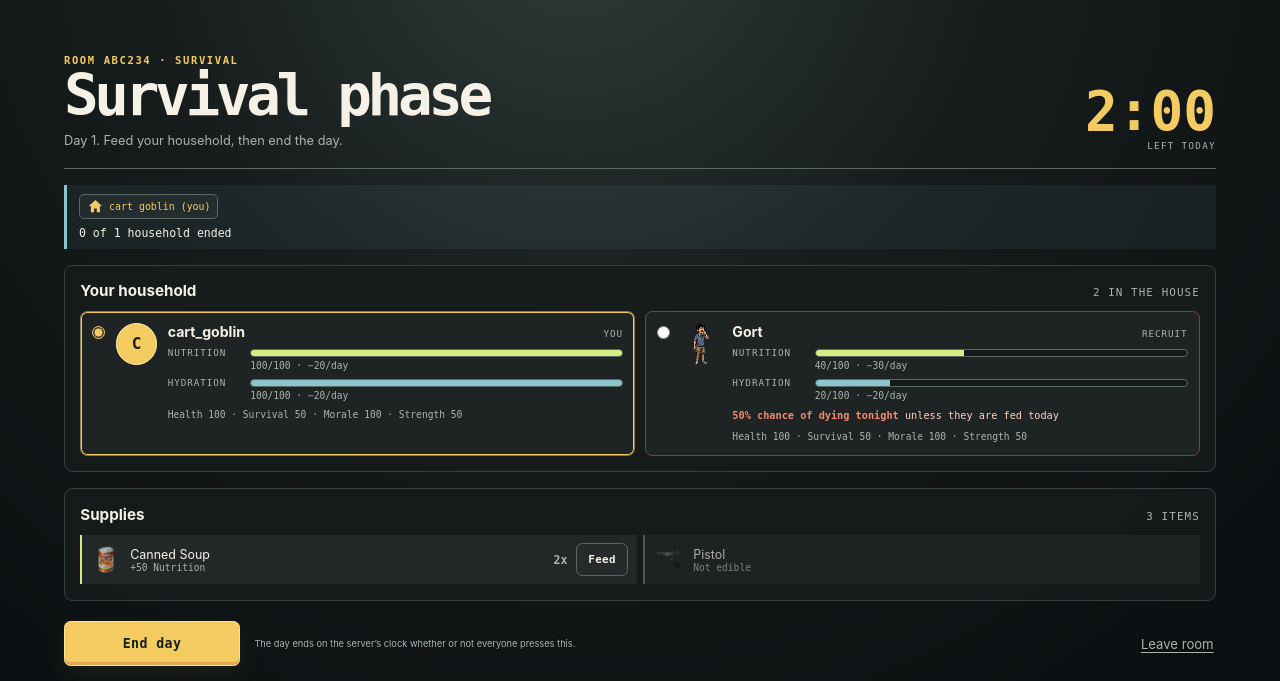
Test case: survival day screen › reports a dropped connection rather than pretending the feed landed
What coordinates should you click on to do the following:
click the button "Feed"
I would click on:
 (602, 560)
Its box is [576,543,628,576].
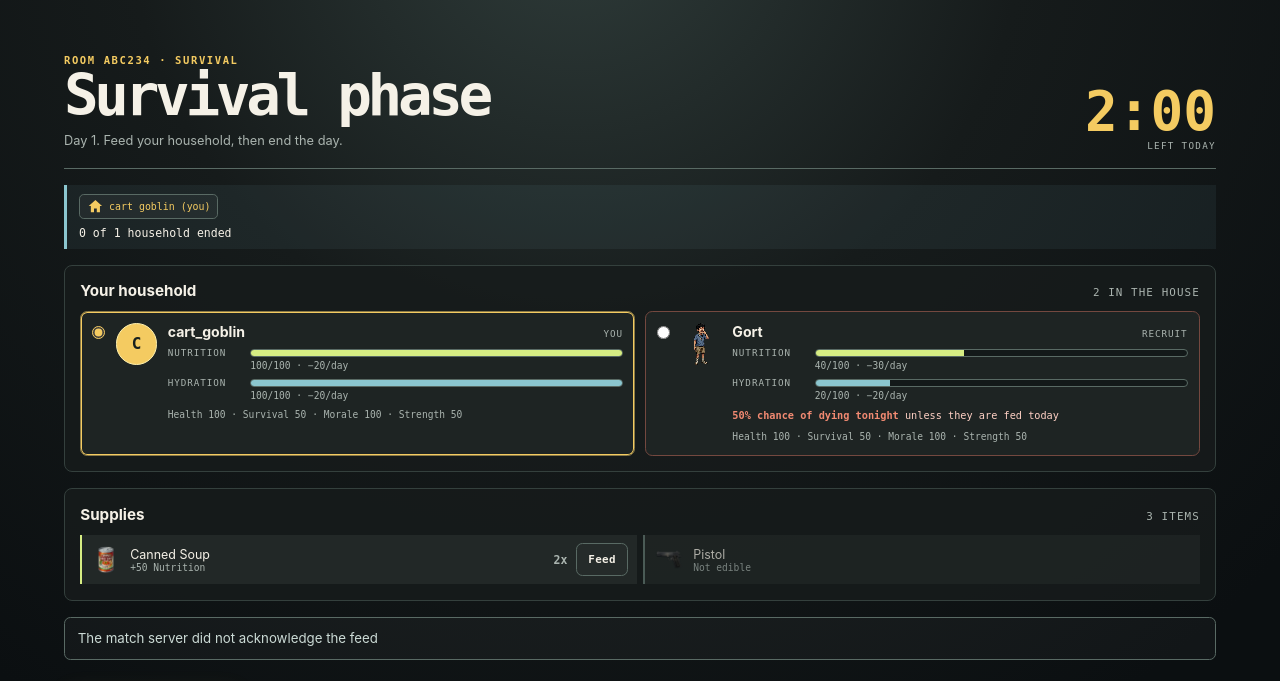
Check: the text "The match server did not acknowledge the feed" is shown, box [64,616,1216,660]
